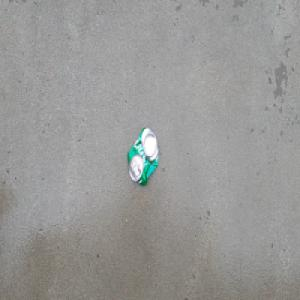SodaCan: (126, 125, 159, 187)
